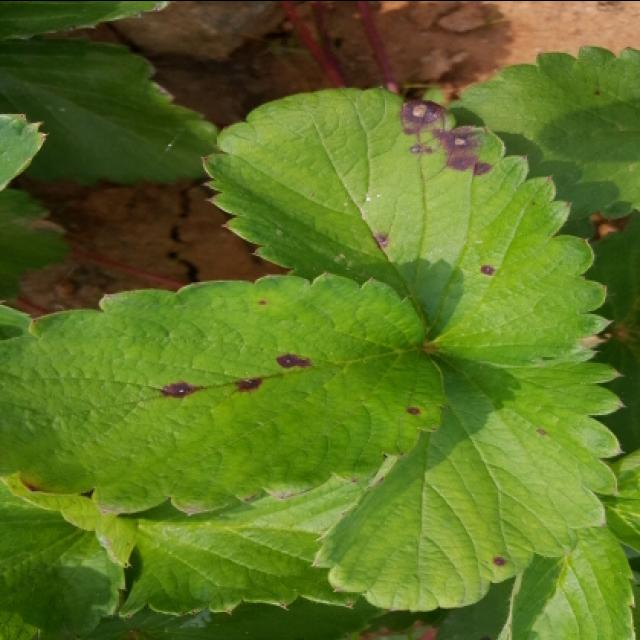Leaf Spot: (200, 84, 613, 369), (0, 269, 447, 514), (311, 349, 624, 611)
